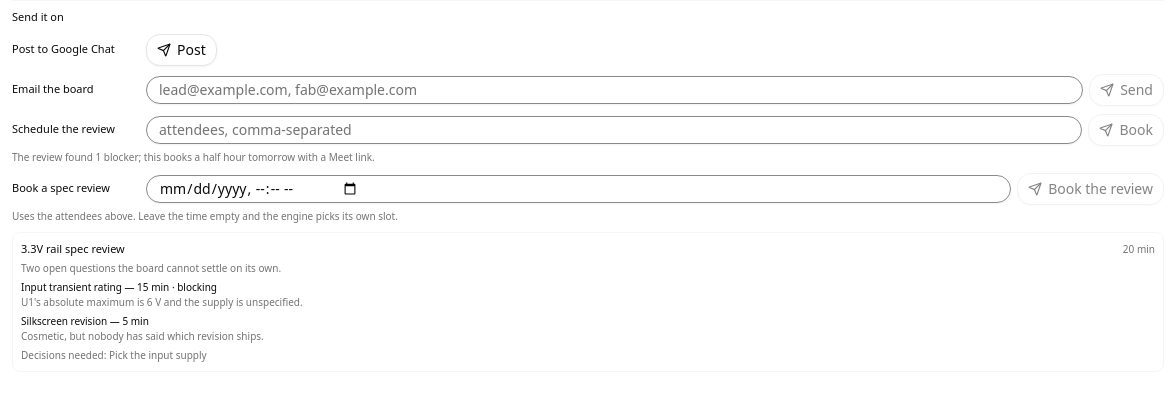
Test: DeliverPanel › books the spec review with the attendees typed, and reports the booking
Expected: the button with test id "deliver-chat" is enabled, [146,34,217,66]
Expected: the button with test id "deliver-spec-review" is disabled, [1017,172,1164,204]
Type "lead@example.com, fab@example.com" into the field with test id "deliver-attendees". click: (614, 130)
box: [146,116,1082,144]
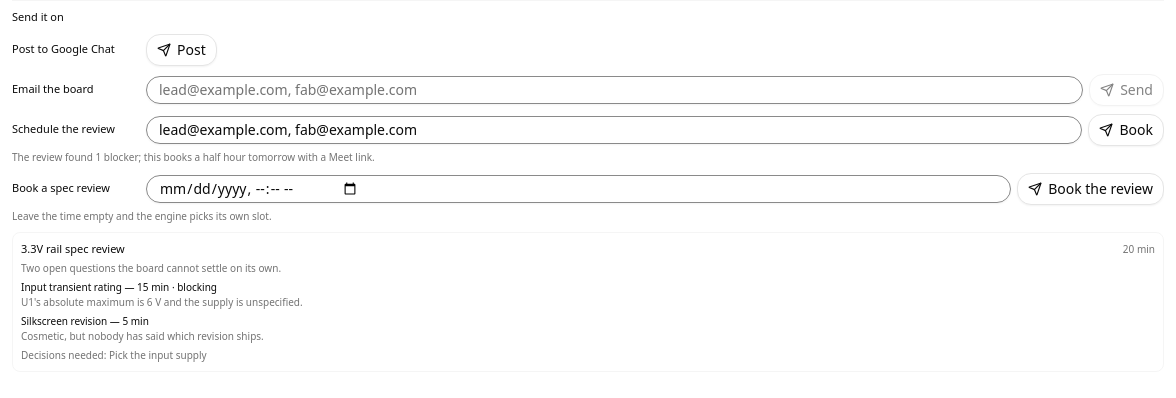
Click the button with test id "deliver-spec-review". click: (1091, 188)
box: [1017,172,1164,204]
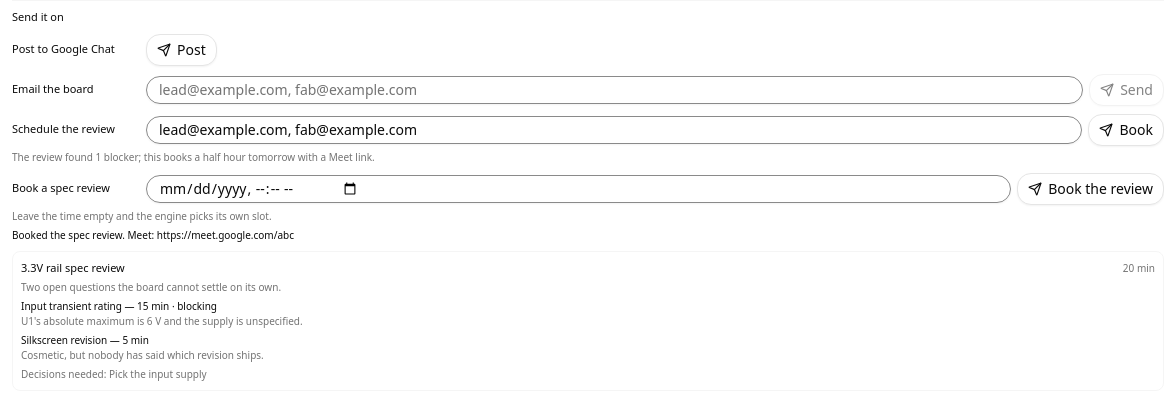
Now the text with test id "deliver-result" reads "Booked the spec review. Meet: https://meet.google.com/abc", box [12,228,294,242]
